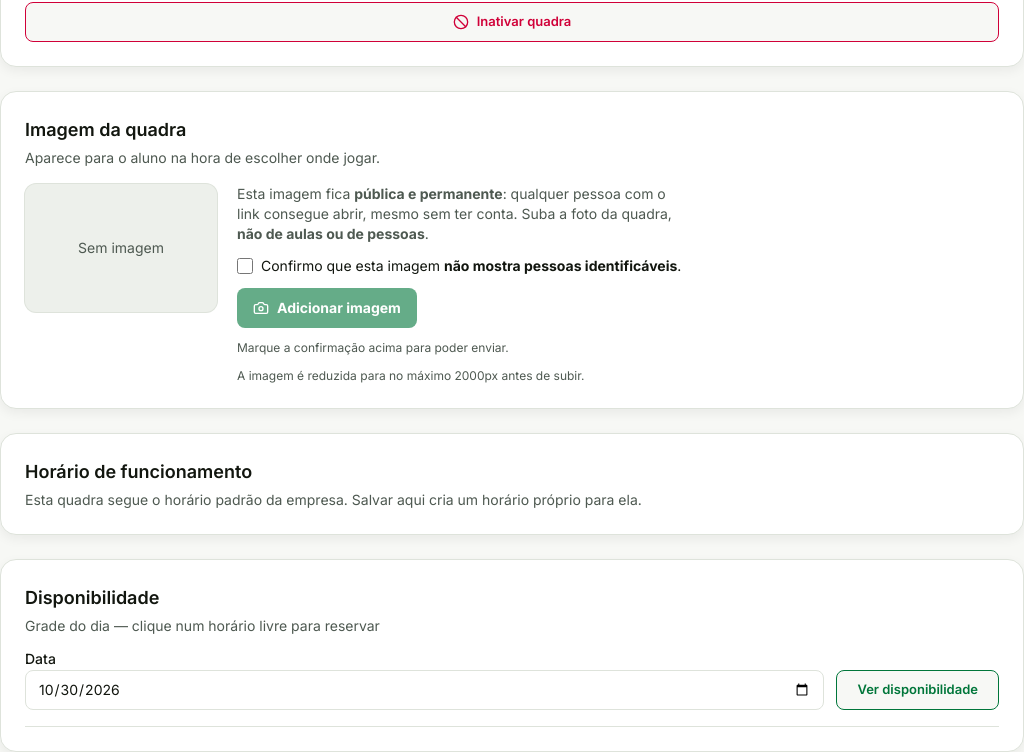
CourtManager — a reserva de mais de uma hora › SPEC-039: o seletor de professor so oferece ATIVOS
(page scrolled)
Click the button "Ver disponibilidade": (918, 690) [836,670,999,710]
(page scrolled)
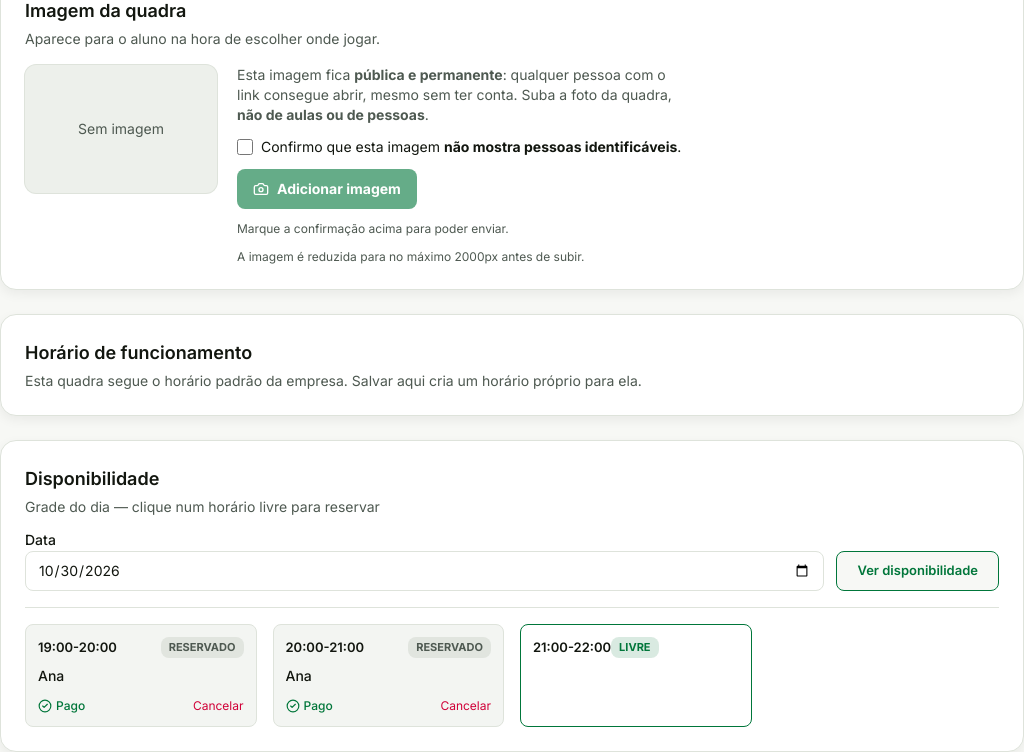
Click the button "21:00-22:00 Livre": (636, 675) [520,624,752,726]
(page scrolled)
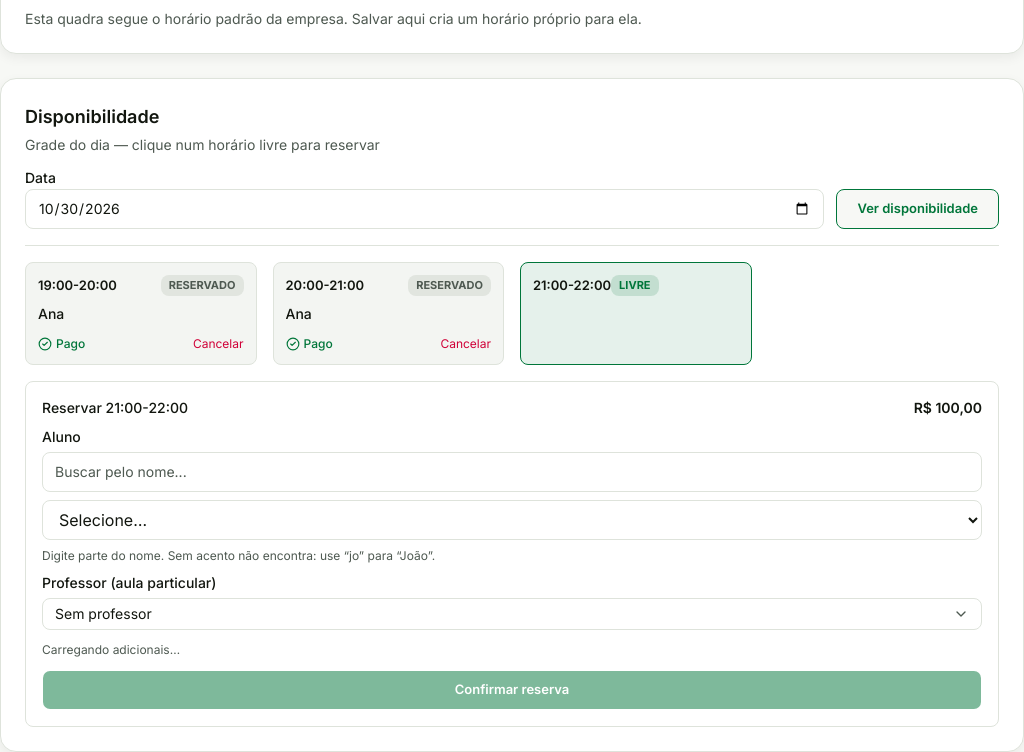
Click the dropdown labelled "Sem professor": (103, 613) [42,598,982,630]
(page scrolled)
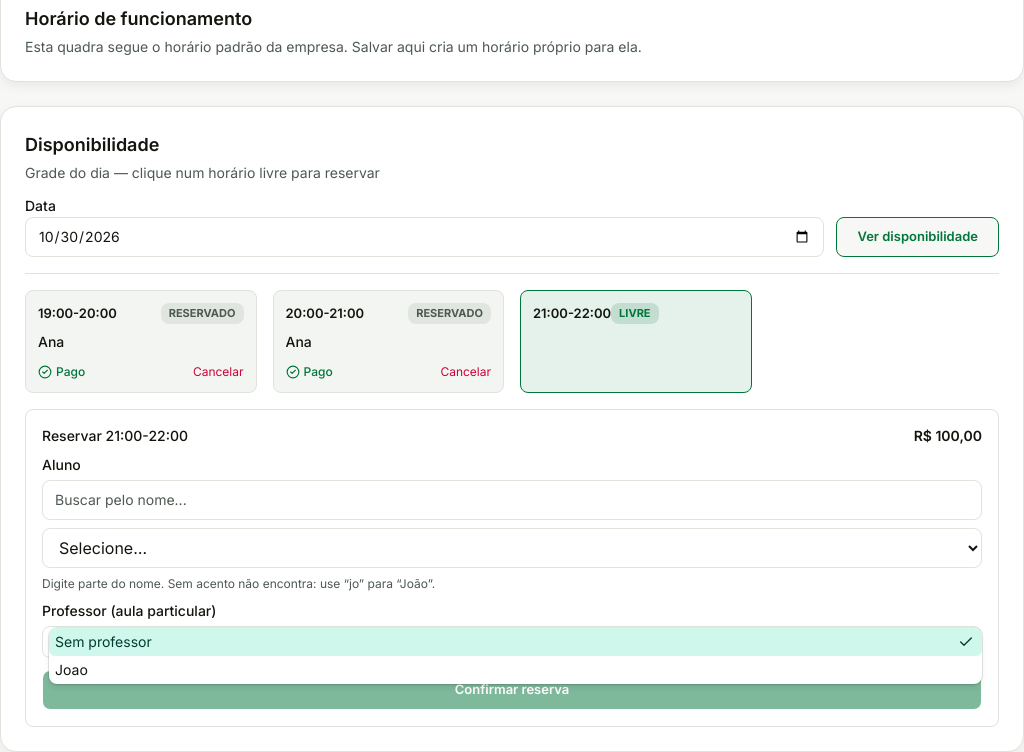
expect the option "Joao" is shown: met, box [55,660,88,678]
